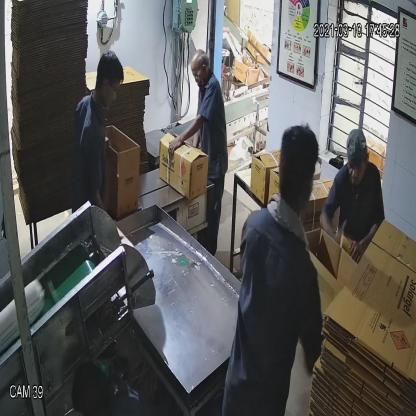no_glove: (165, 112, 208, 164), (345, 221, 384, 267)
